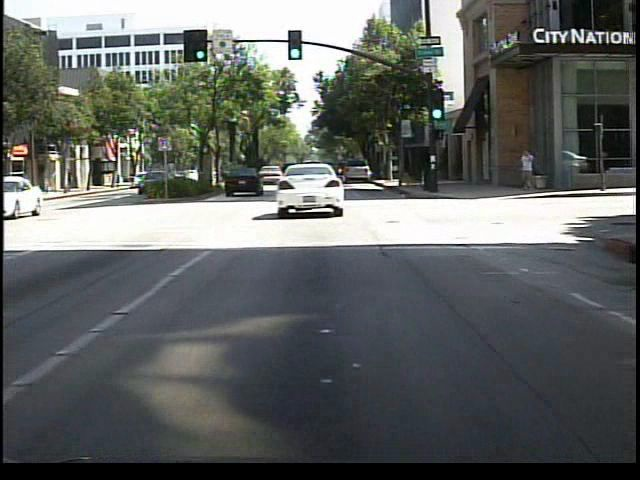person: (516, 146, 539, 196)
